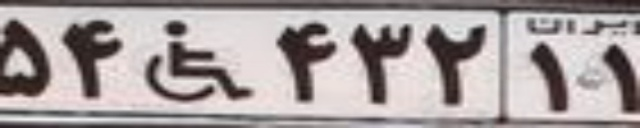1: (599, 41, 639, 113), (529, 41, 568, 111)
2: (426, 21, 486, 105)
3: (348, 21, 416, 104)
4: (274, 20, 339, 103), (63, 19, 124, 99)
5: (0, 19, 50, 98)
malol: (141, 19, 254, 102)
